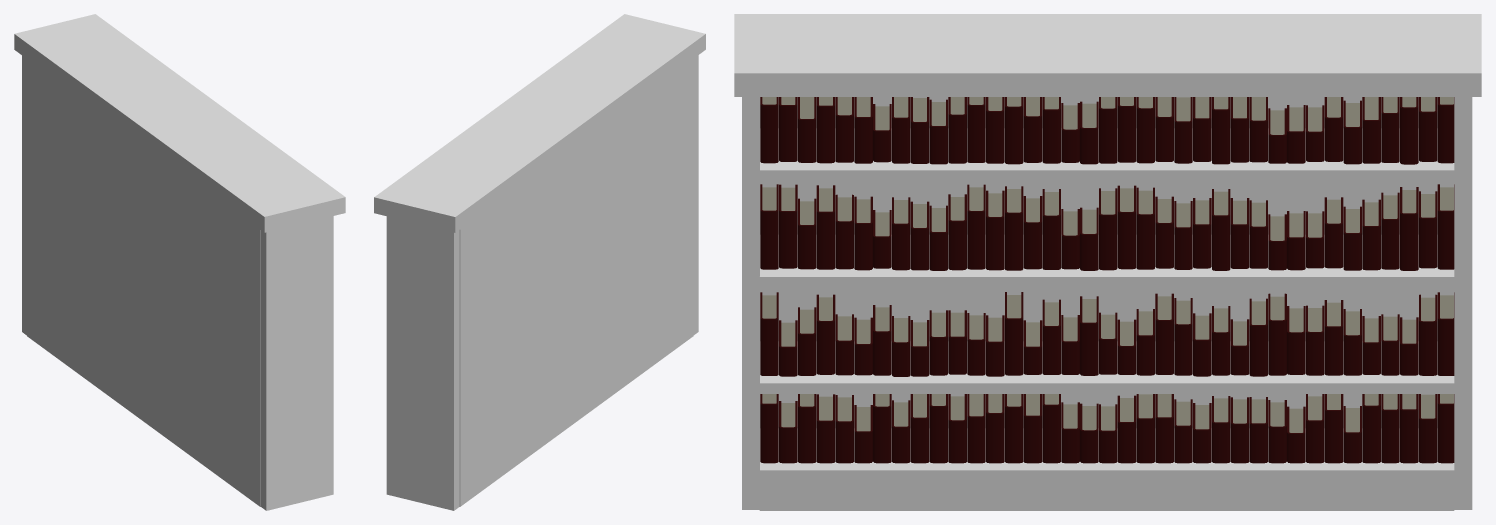
File: BookShelf.fbx
3 views of the same model, side by side, from view 1: azimuth 30°, elevation 25°; view 2: azimuth 150°, elevation 25°; view 3: azimuth 270°, elevation 25° (orthographic). The views are drawn at different scales.
Parts seen in each view (by area): view 1: Shelf; view 2: Shelf; view 3: Shelf, Books.003, Books.019, Books, Books.011, Books.001, Books.077, Books.013, Books.034, Books.074, Books.087, Books.020 (+137 smaller).
Part boxes in pixels (x1=…): Shelf: x1=14, y1=14, x2=345, y2=510; Shelf: x1=374, y1=14, x2=705, y2=510; Shelf: x1=734, y1=14, x2=1481, y2=510; Books.003: x1=816, y1=185, x2=835, y2=269; Books.019: x1=1117, y1=185, x2=1136, y2=269; Books: x1=760, y1=184, x2=778, y2=269; Books.011: x1=967, y1=184, x2=985, y2=269; Books.001: x1=779, y1=184, x2=797, y2=268; Books.077: x1=816, y1=294, x2=835, y2=374; Books.013: x1=1005, y1=186, x2=1023, y2=270; Books.034: x1=1400, y1=187, x2=1418, y2=270; Books.074: x1=760, y1=292, x2=778, y2=375; Books.087: x1=1005, y1=292, x2=1023, y2=375; Books.020: x1=1136, y1=187, x2=1154, y2=269.
Size of the model in its own units: 121 by 423 by 644.
